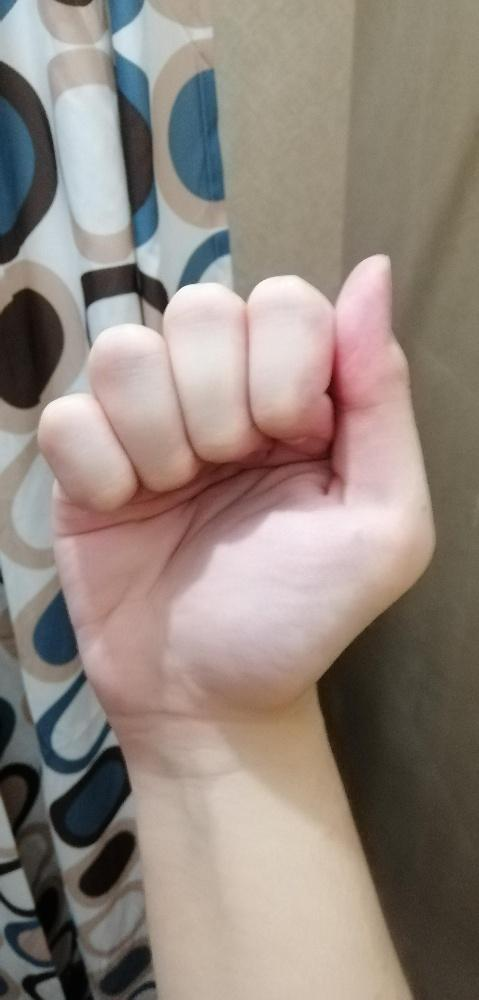a: (38, 243, 436, 707)
